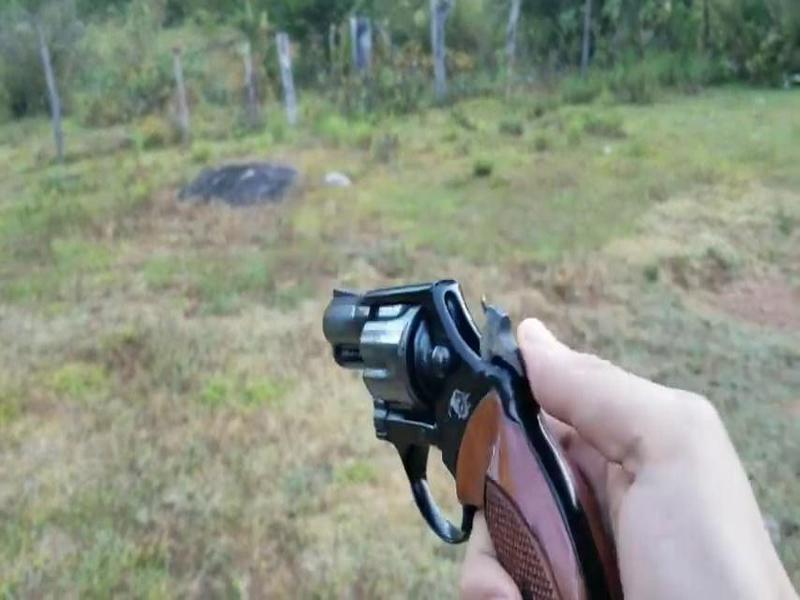Revolver: (319, 272, 615, 575)
